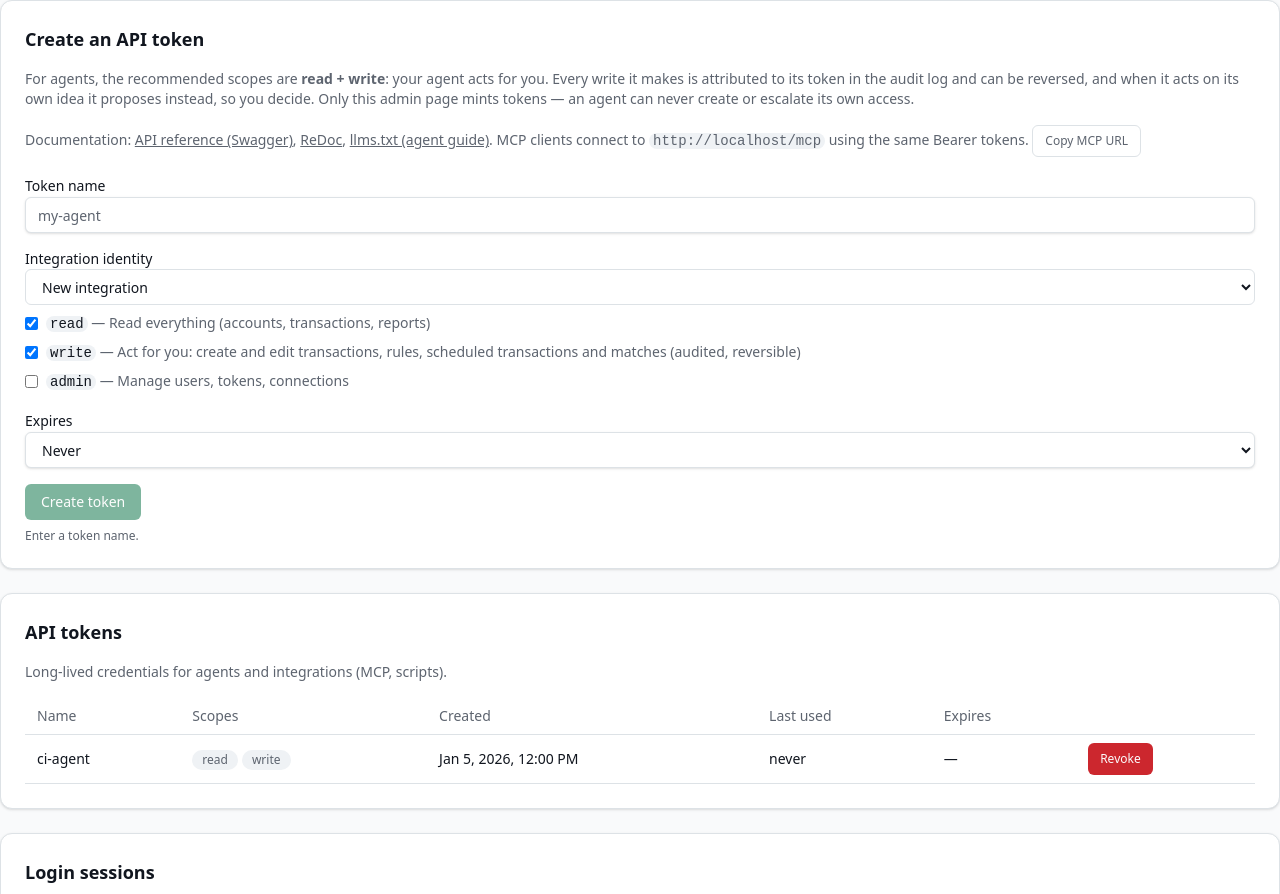
Test case: Tokens: revoke › revokes a confirmed token and refreshes the list
Step 1. Click the button "Revoke" → (1120, 759), box [1088, 743, 1153, 775]
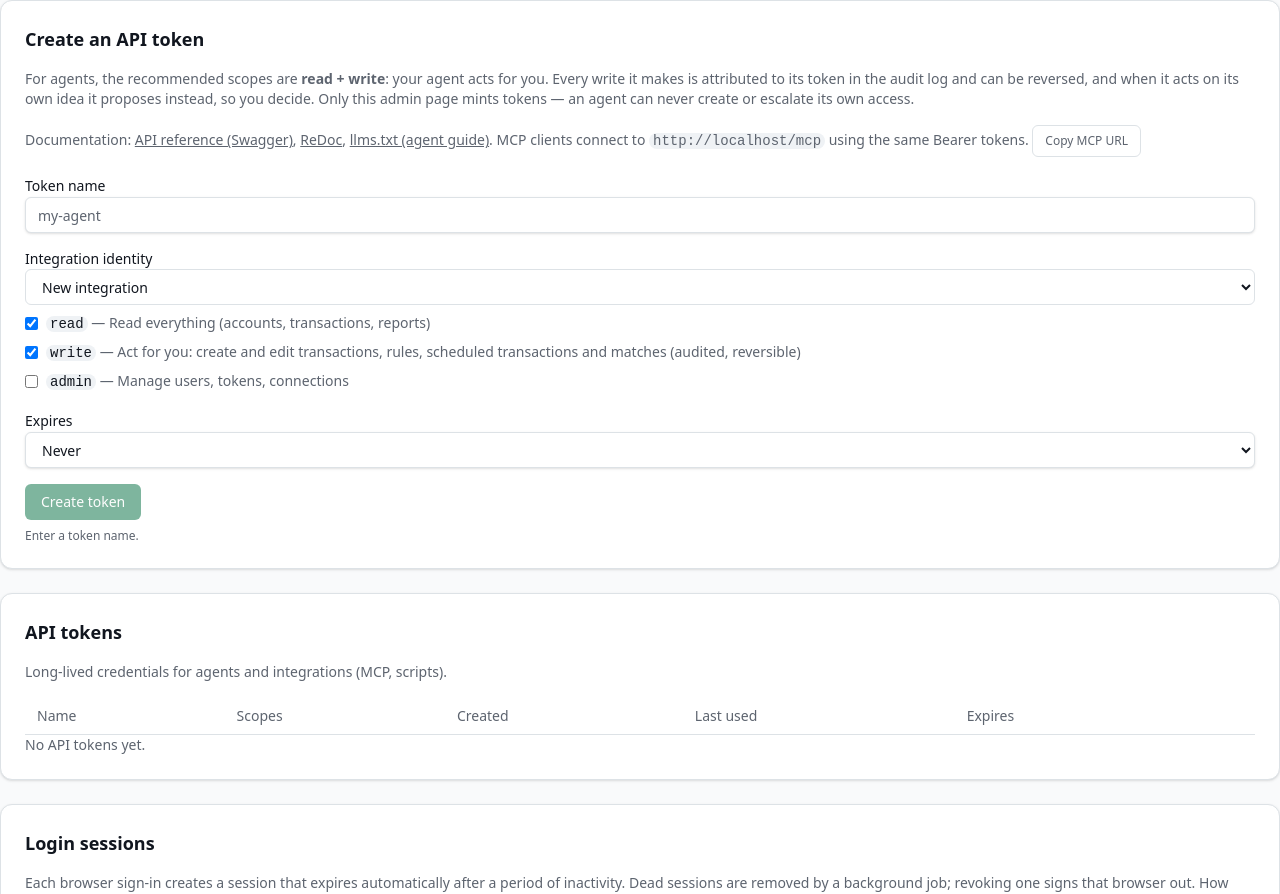
expect the text "No API tokens yet." is shown: met, box [25, 735, 145, 754]
